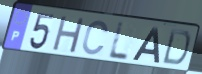5: (28, 11, 56, 50)
A: (130, 26, 161, 64)
C: (80, 19, 110, 57)
D: (160, 27, 192, 67)
H: (51, 14, 87, 55)
L: (107, 21, 130, 62)
